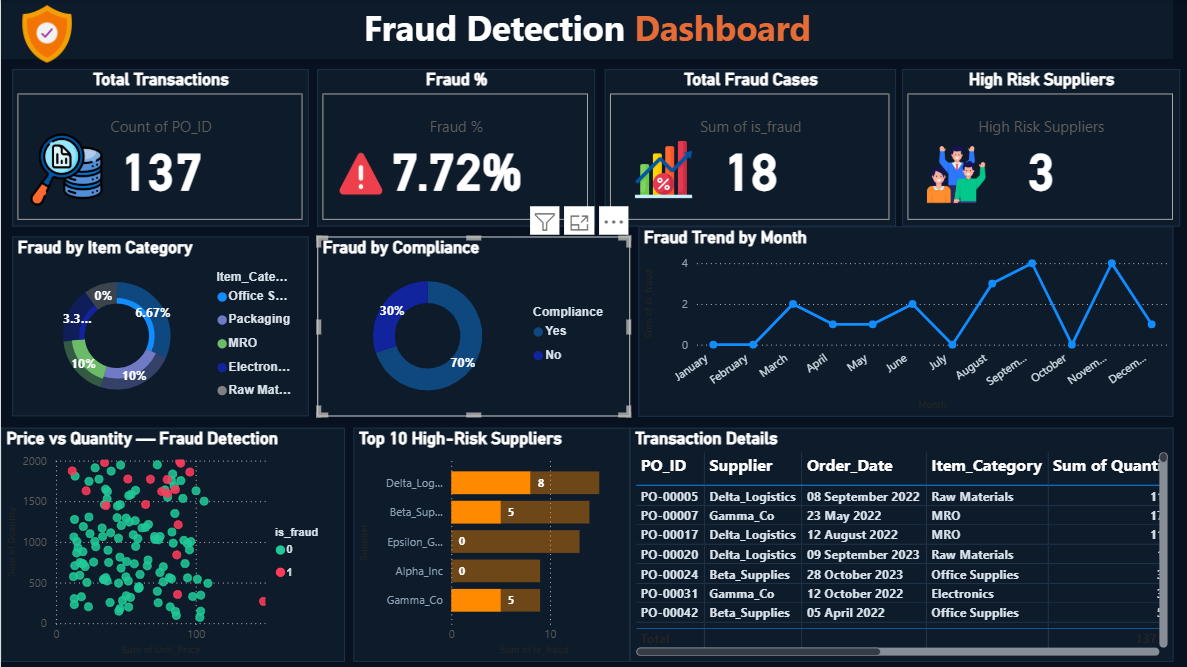

Layout of this report page (visuals, bound fields, positions):
{"tool":"powerbi","page":{"name":"Page 1","canvas":[1280,720],"ordinal":0},"visuals":[{"type":"cardVisual","title":"Total Transactions","fields":{"Data":["CountNonNull(procurement_enriched (2).PO_ID)"]},"box":[12.1,75.4,319.1,169.6],"z":0},{"type":"cardVisual","title":"Total Fraud Cases","fields":{"Data":["Sum(procurement_enriched (2).is_fraud)"]},"box":[650.2,75.4,313.7,169.6],"z":1000},{"type":"cardVisual","title":"Fraud %","fields":{"Data":["procurement_enriched (2).Fraud %"]},"box":[340.6,75.4,298.9,169.6],"z":2000},{"type":"cardVisual","title":"High Risk Suppliers","fields":{"Data":["procurement_enriched (2).High Risk Suppliers"]},"box":[970.6,75.4,298.9,169.6],"z":3000},{"type":"donutChart","title":"Fraud by Item Category","fields":{"Category":["procurement_enriched (2).Item_Category"],"Y":["Sum(procurement_enriched (2).is_fraud)"]},"box":[12.1,255.8,319.1,193.9],"z":4000},{"type":"donutChart","title":"Fraud by Compliance","fields":{"Category":["procurement_enriched (2).Compliance"],"Y":["Sum(procurement_enriched (2).is_fraud)"]},"box":[340.6,255.8,336.6,193.9],"z":5000},{"type":"lineChart","title":"Fraud Trend by Month","fields":{"Category":["procurement_enriched (2).Order_Date.Variation.Date Hierarchy.Month"],"Y":["Sum(procurement_enriched (2).is_fraud)"]},"box":[686.6,245,576.2,204.6],"z":6000},{"type":"scatterChart","title":"Price vs Quantity — Fraud Detection","fields":{"X":["Sum(procurement_enriched (2).Unit_Price)"],"Y":["Sum(procurement_enriched (2).Quantity)"],"Category":["procurement_enriched (2).PO_ID"],"Series":["procurement_enriched (2).is_fraud"]},"box":[0,461.8,370.2,251.7],"z":7000},{"type":"barChart","title":"Top 10 High-Risk Suppliers","fields":{"Category":["procurement_enriched (2).Supplier"],"Y":["Sum(procurement_enriched (2).is_fraud)"]},"box":[379.6,461.8,297.5,251.7],"z":8000},{"type":"tableEx","title":"Transaction Details","fields":{"Values":["procurement_enriched (2).PO_ID","procurement_enriched (2).Supplier","procurement_enriched (2).Order_Date","procurement_enriched (2).Item_Category","Sum(procurement_enriched (2).Quantity)","Sum(procurement_enriched (2).Unit_Price)","Sum(procurement_enriched (2).Negotiated_Price)","procurement_enriched (2).Compliance","Sum(procurement_enriched (2).is_fraud)"]},"box":[677.2,461.8,585.6,251.7],"z":9000},{"type":"actionButton","box":[0,0,100,40],"z":10000},{"type":"textbox","box":[0,0,1262.8,64.6],"z":10001},{"type":"image","box":[0,0,99.6,75.4],"z":10002},{"type":"image","box":[26.9,122.5,87.5,122.5],"z":10003},{"type":"image","box":[350,148.1,75.4,82.1],"z":10004},{"type":"image","box":[677.2,148.1,72.7,71.4],"z":10005},{"type":"image","box":[976,148.1,105,82.1],"z":10006}]}

Visuals, with their boxes in screenshot pixels (x1, y1, x2, y2), scaled from the page's 1280x720 canvas onto the 1187x667 screenshot:
"Total Transactions" cardVisual: (11, 70, 307, 227)
"Total Fraud Cases" cardVisual: (603, 70, 894, 227)
"Fraud %" cardVisual: (316, 70, 593, 227)
"High Risk Suppliers" cardVisual: (900, 70, 1177, 227)
"Fraud by Item Category" donutChart: (11, 237, 307, 417)
"Fraud by Compliance" donutChart: (316, 237, 628, 417)
"Fraud Trend by Month" lineChart: (637, 227, 1171, 417)
"Price vs Quantity — Fraud Detection" scatterChart: (0, 428, 343, 661)
"Top 10 High-Risk Suppliers" barChart: (352, 428, 628, 661)
"Transaction Details" tableEx: (628, 428, 1171, 661)
actionButton: (0, 0, 93, 37)
textbox: (0, 0, 1171, 60)
image: (0, 0, 92, 70)
image: (25, 113, 106, 227)
image: (325, 137, 394, 213)
image: (628, 137, 695, 203)
image: (905, 137, 1002, 213)
